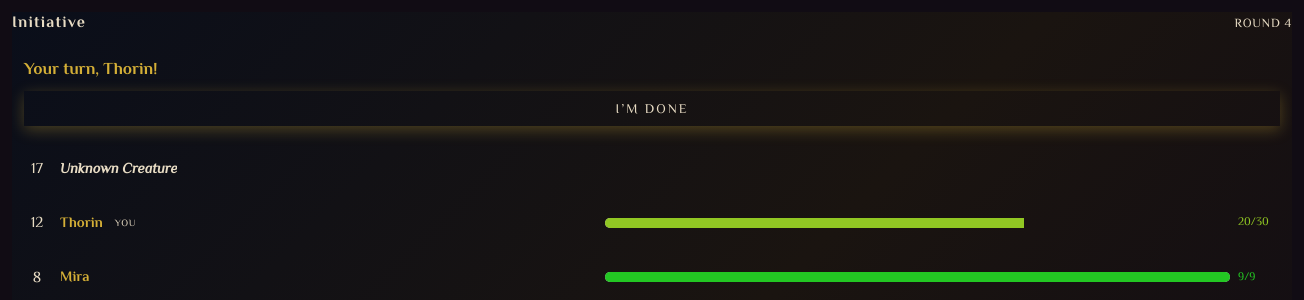
Test: PlayerCombat › says it loudly when it is your turn, and lets you tell the DM you are done
Expected: the message shows "Your turn, Thorin!", [12,44,1292,138]
Click the button "I’m done": (652, 108) [24,91,1280,126]
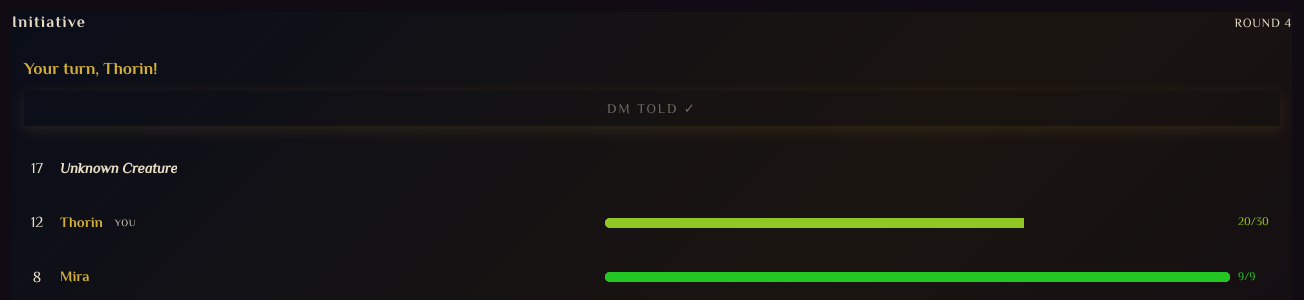
Expected: the button "DM told ✓" is disabled, [24,91,1280,126]
